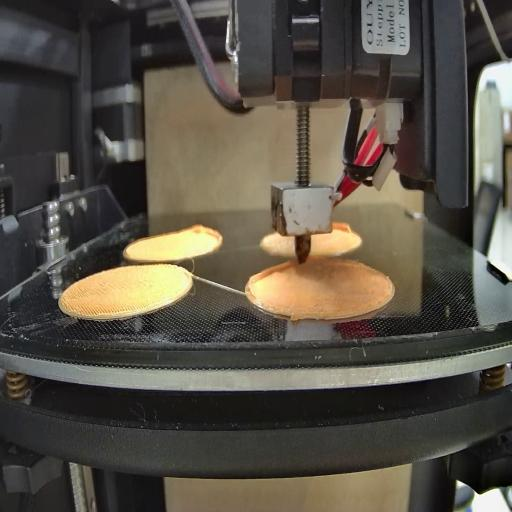over_extrusion: (248, 259, 297, 300), (193, 222, 224, 254), (332, 220, 351, 234)
